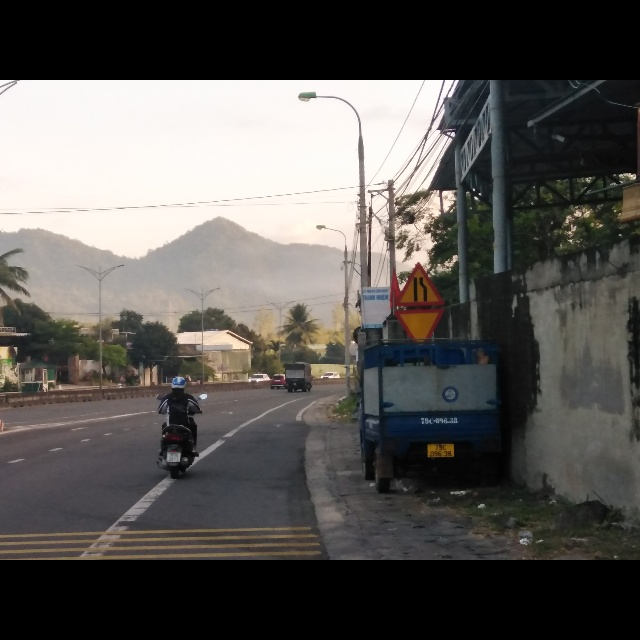Giao nhau với đường ưu tiên: (395, 308, 445, 342)
Đường bị hẹp bên phải: (395, 263, 444, 308)
